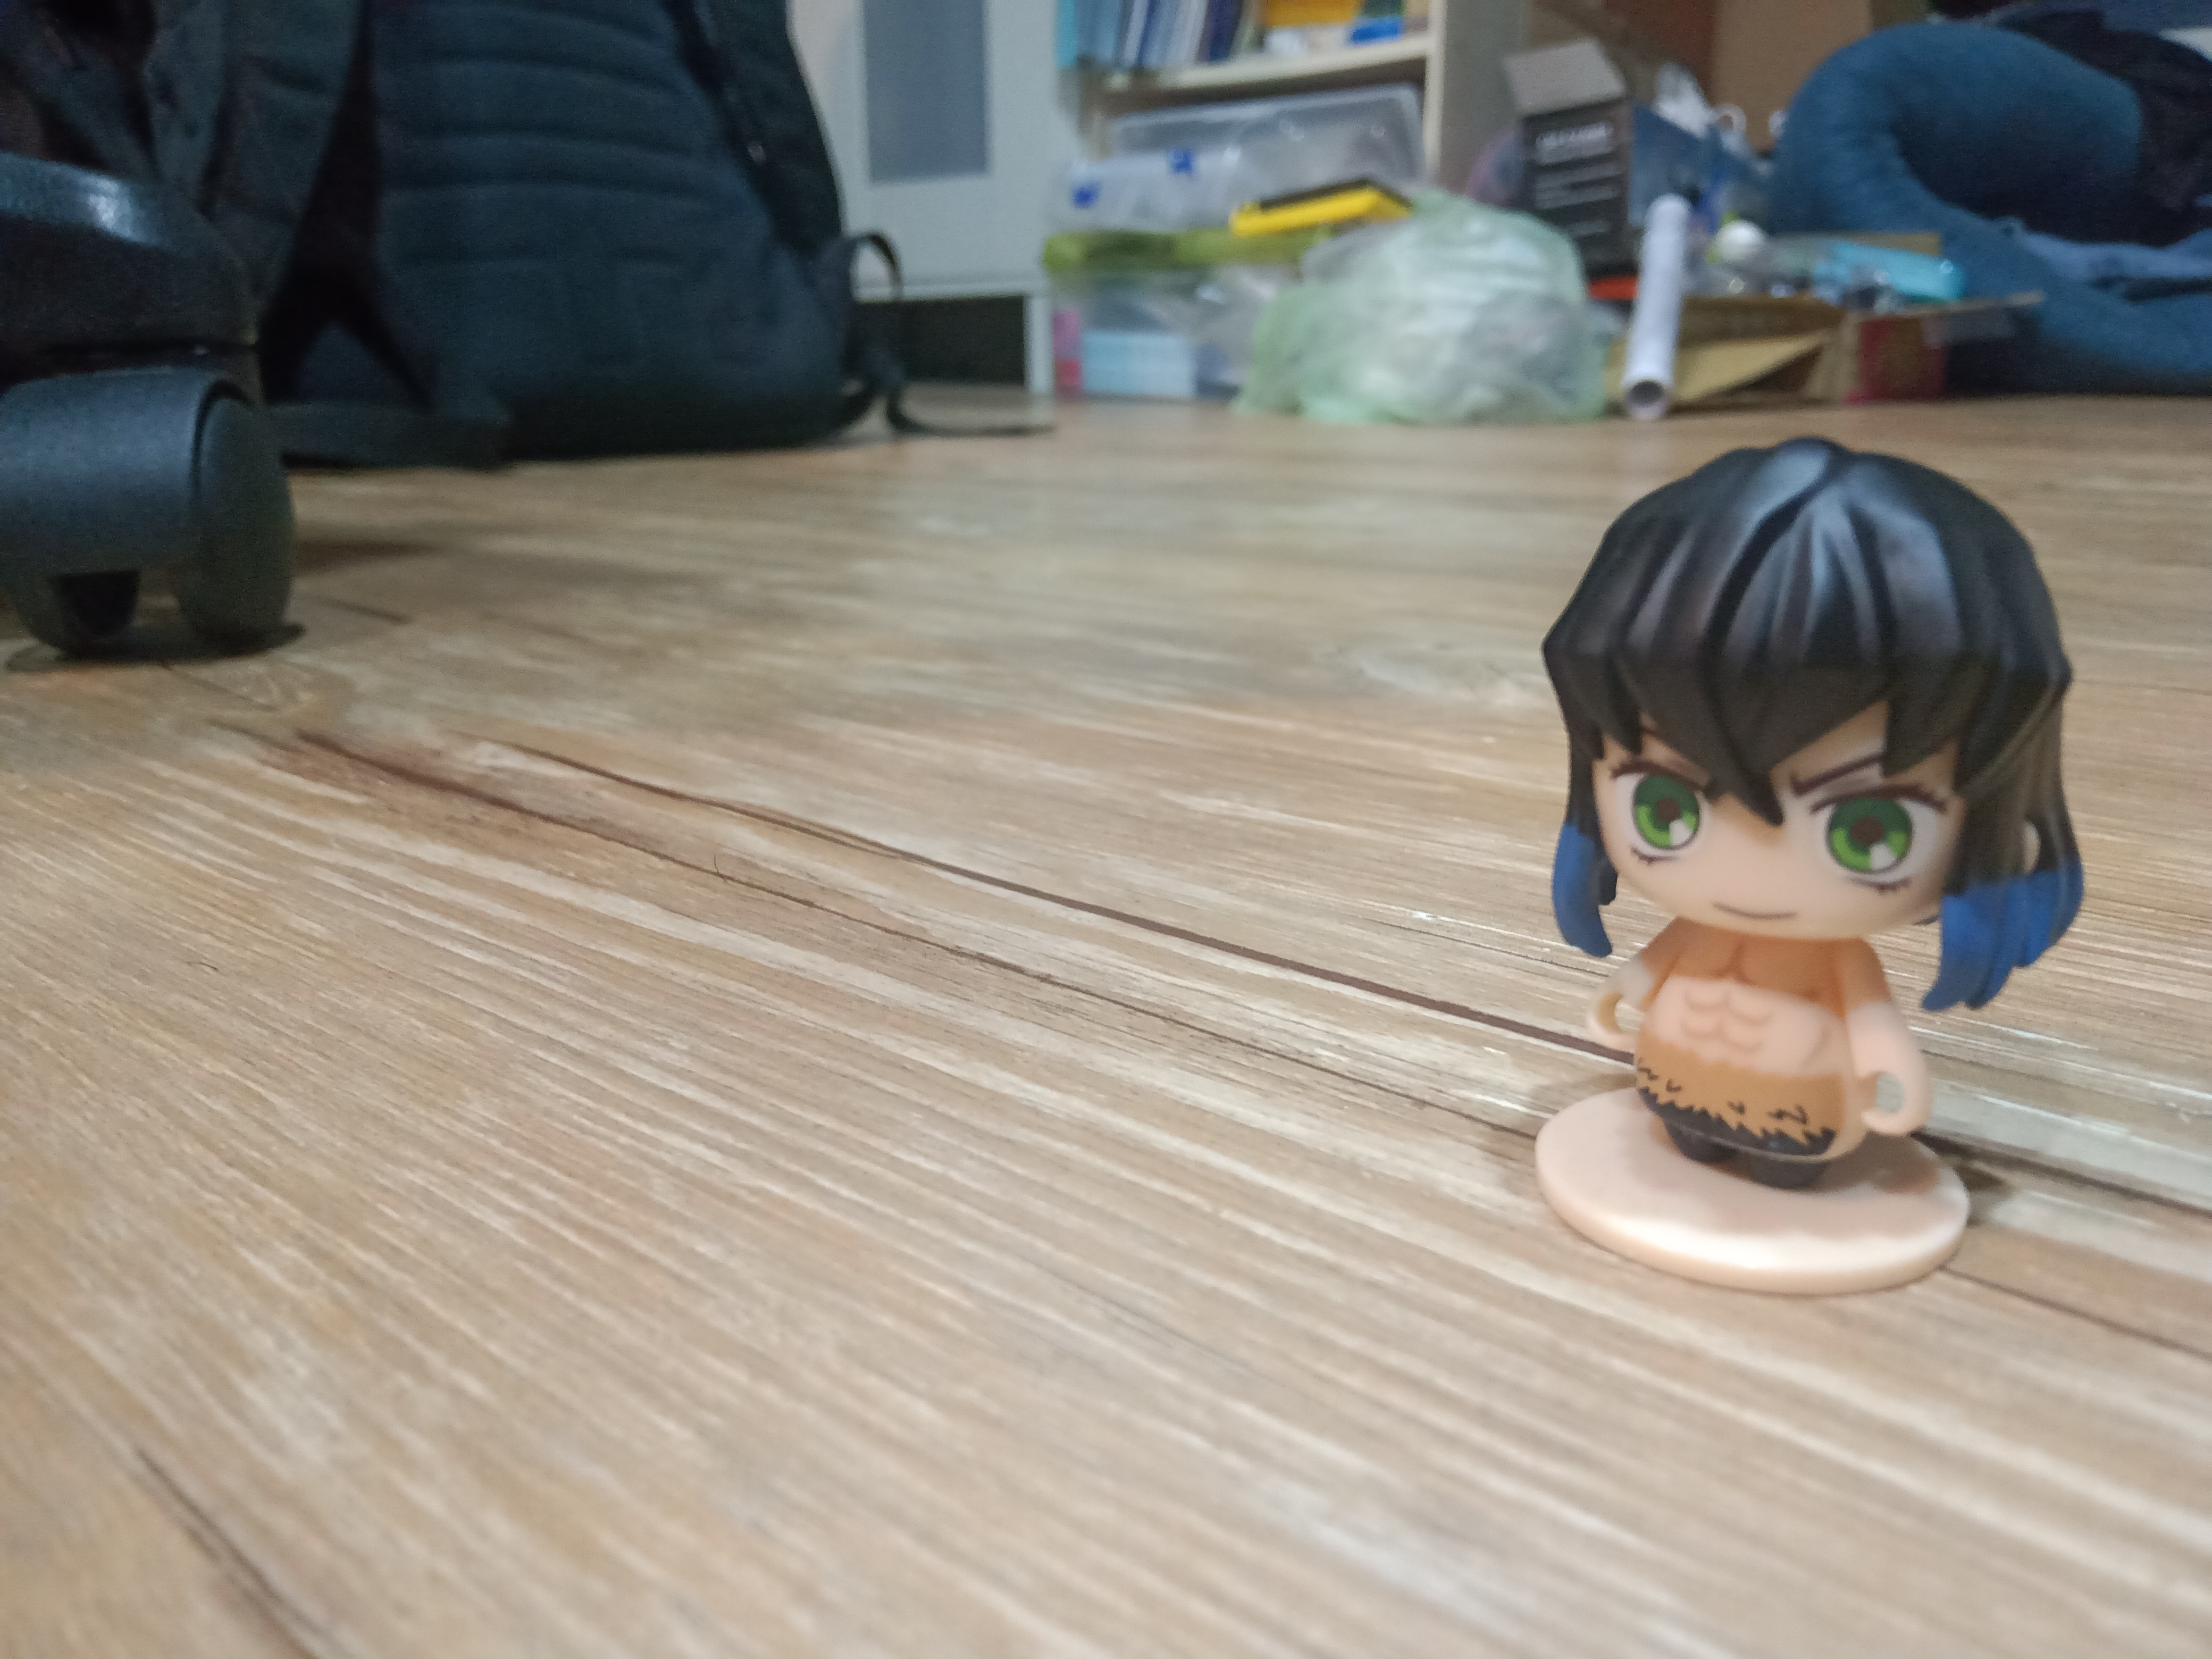Inosuke: (1493, 422, 2114, 1321)
